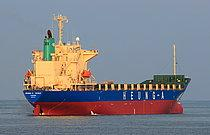Ship: (21, 10, 194, 119)
